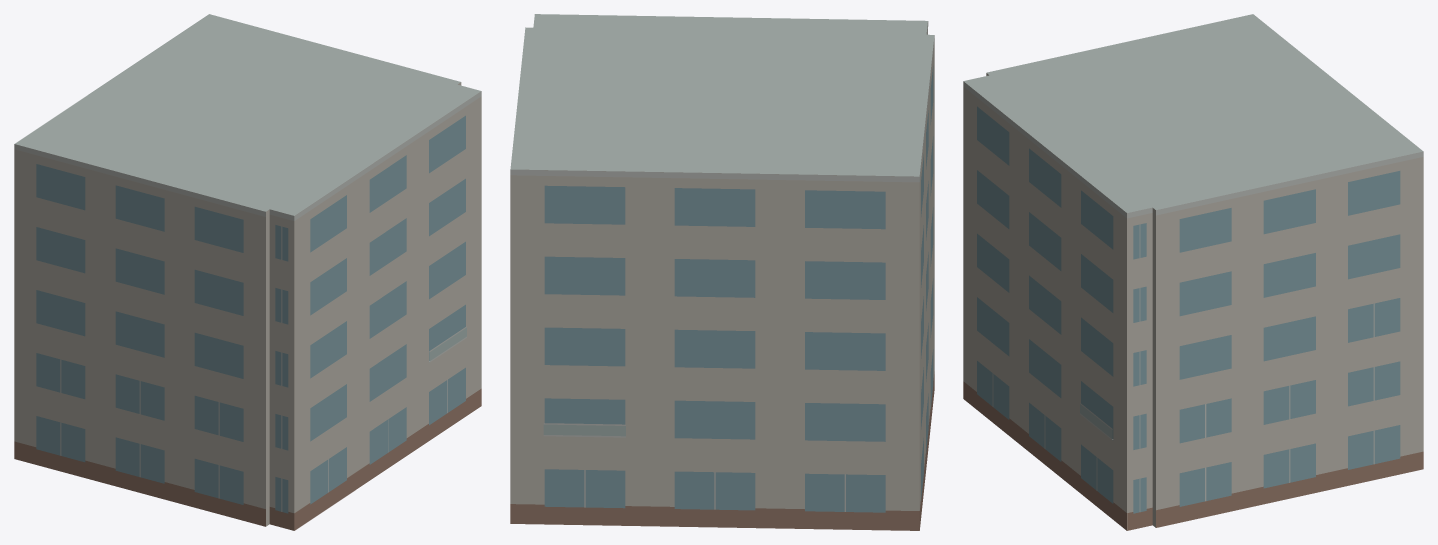
The model's file is survey-upis-32870453.glb.
3 views of the same model, side by side, from view 1: azimuth 30°, elevation 25°; view 2: azimuth 150°, elevation 25°; view 3: azimuth 270°, elevation 25° (orthographic). The views are drawn at different scales.
Parts seen in each view (by area): view 1: survey-upis-32870453.tmp; view 2: survey-upis-32870453.tmp; view 3: survey-upis-32870453.tmp.
Boxes of the visible parts, left/top/right/bottom form: survey-upis-32870453.tmp: left=14, top=14, right=481, bottom=530; survey-upis-32870453.tmp: left=510, top=14, right=934, bottom=530; survey-upis-32870453.tmp: left=963, top=14, right=1423, bottom=530.
Size of the model in its own units: 19.69 by 14.64 by 19.23.
